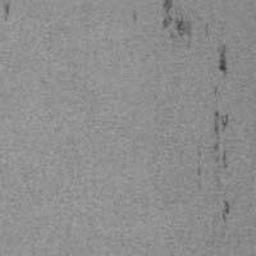Inclusion: (163, 0, 193, 50), (212, 111, 230, 152), (197, 148, 204, 192), (218, 46, 228, 76), (221, 201, 232, 223), (3, 3, 12, 23), (221, 151, 230, 170), (131, 10, 138, 23), (214, 87, 219, 95)
